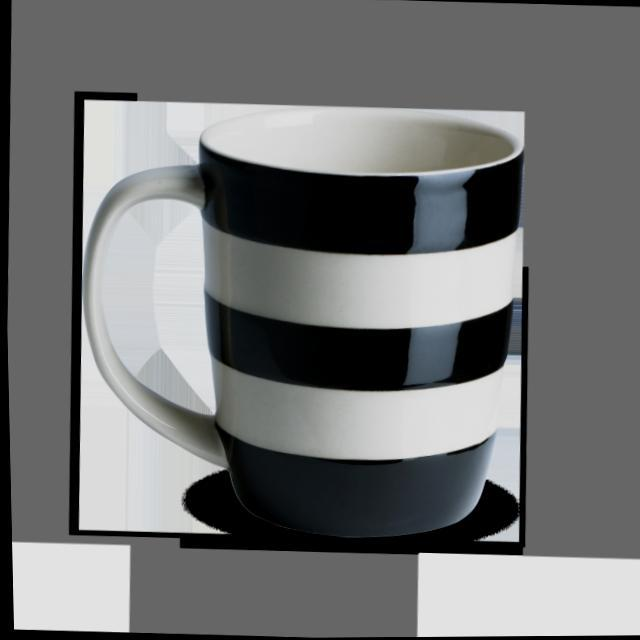cup: (61, 90, 545, 564)
